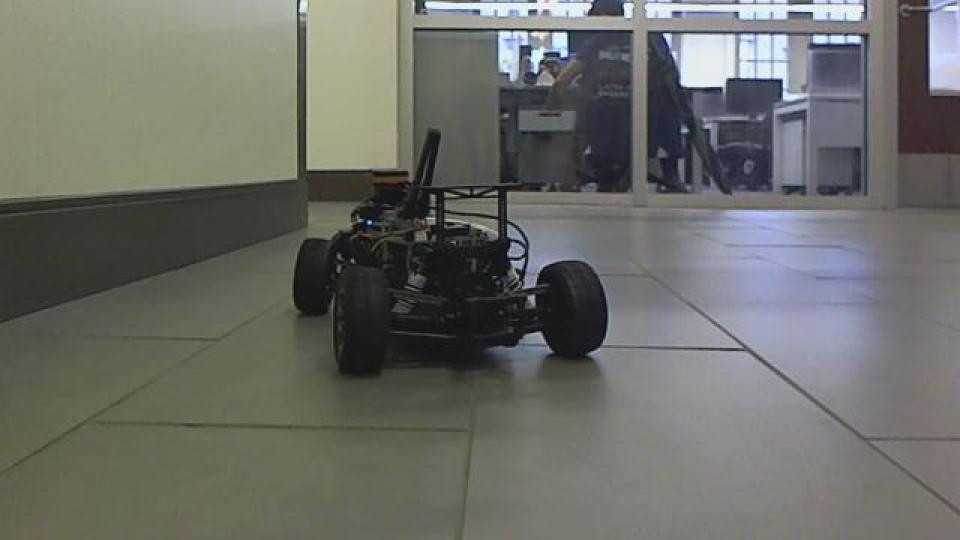car: (288, 124, 610, 378)
